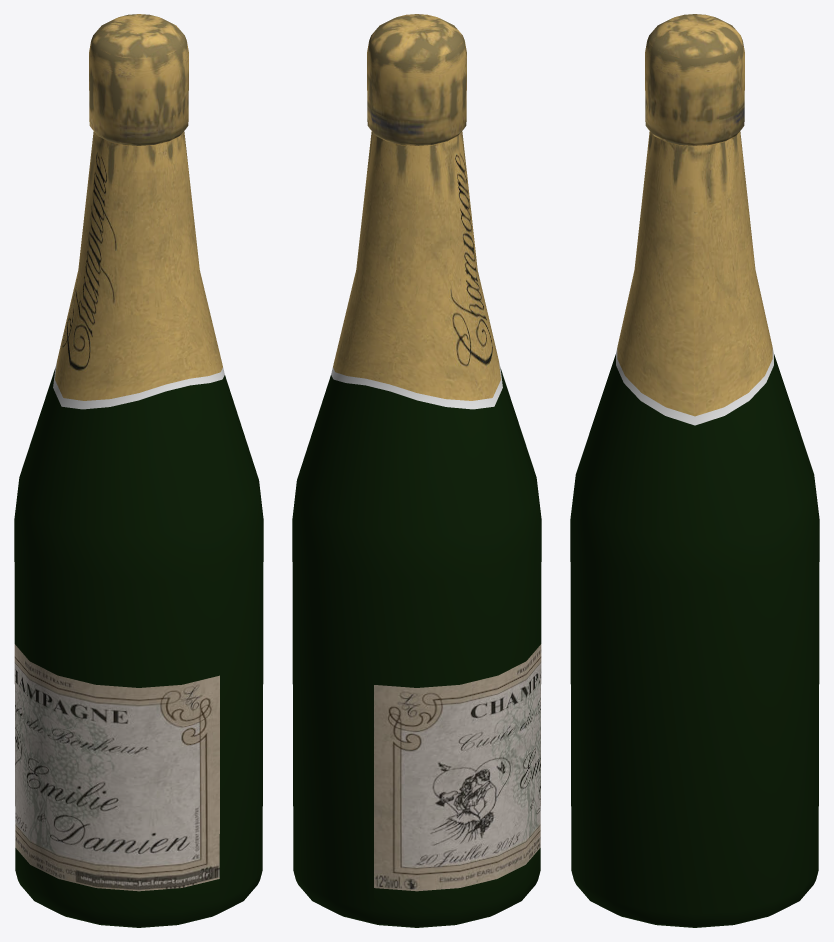
File: champagne_edtied_lowpoly.gltf
The picture shows the model from 3 angles, left to right: view 1: azimuth 30°, elevation 25°; view 2: azimuth 150°, elevation 25°; view 3: azimuth 270°, elevation 25°; orthographic projection.
Parts seen in each view (by area): view 1: Cylinder004.001, Cylinder004.002, Cylinder004; view 2: Cylinder004.002, Cylinder004.001, Cylinder004; view 3: Cylinder004.002, Cylinder004.001, Cylinder004.
Part boxes in pixels (x1,y1,x2,y2): Cylinder004.001: (14, 14, 222, 891); Cylinder004.002: (14, 368, 263, 927); Cylinder004: (53, 362, 224, 409); Cylinder004.002: (292, 368, 541, 927); Cylinder004.001: (333, 14, 541, 891); Cylinder004: (331, 362, 502, 409); Cylinder004.002: (570, 354, 819, 927); Cylinder004.001: (617, 14, 772, 416); Cylinder004: (616, 348, 773, 425).
Bounding box in the file's own units: 0.537 × 2 × 0.5289.
Materials: 3 (3 with a texture image).
